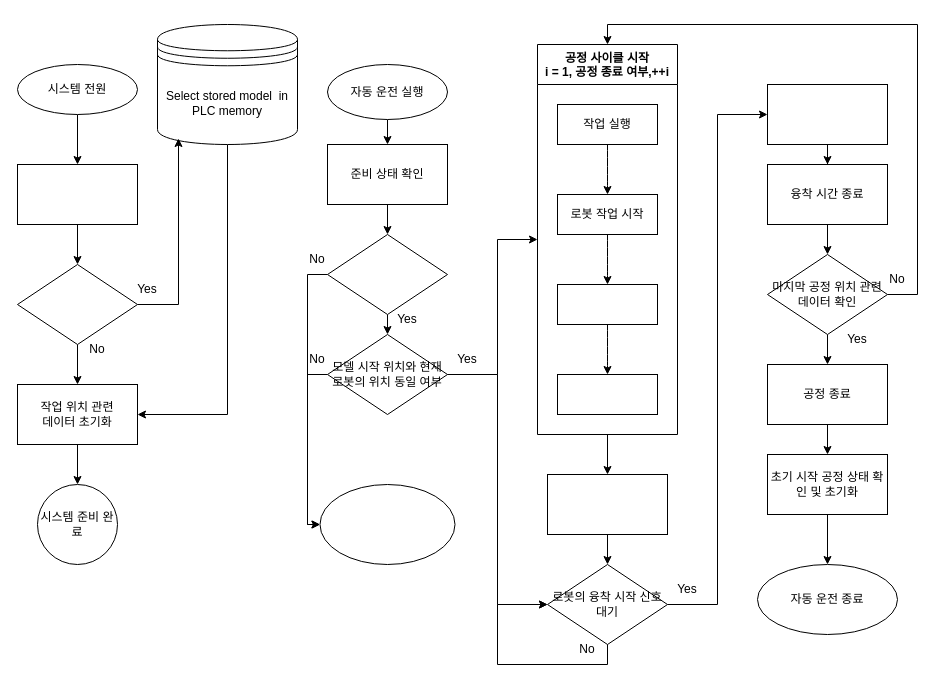
This 945x690 diagram has some shape labels left out. Here are the shapes that lost their labels. From the top down, the centre of each, then its label:
At [827,114]: "융착기 실행".
At [77,194]: "시스템 초기화".
At [387,274]: "로봇과 모드버스 연결 상태 확인".
At [77,304]: "저장된 모델 여부".
At [607,304]: "로봇에 위치 데이터 송신".
At [607,394]: "로봇 이동 모션 진행".
At [387,524]: "준비 상태 에러 (경고음 및 로그 기록)".
At [607,504]: "작업 위치 공정 중 융착 시작 신호 수신(Digital IO)".
